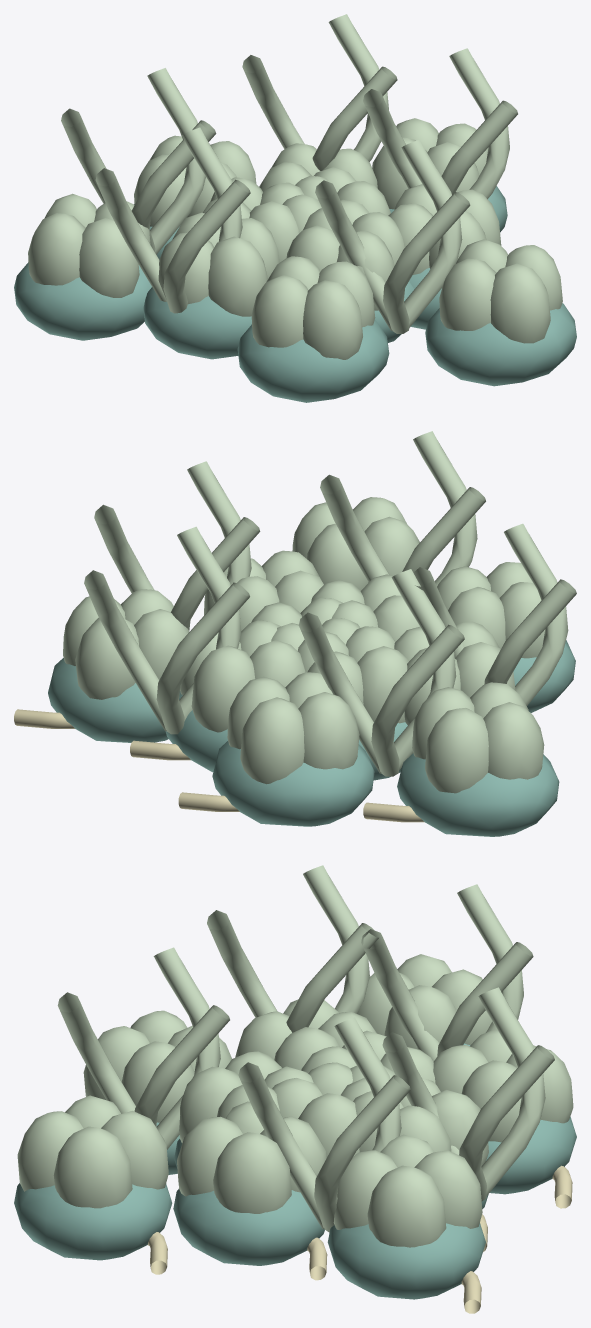
The model's file is bio_oxygen_reef_09_far.glb.
The picture shows the model from 3 angles, top to bottom: view 1: azimuth 30°, elevation 25°; view 2: azimuth 150°, elevation 25°; view 3: azimuth 270°, elevation 25°; orthographic projection. The views are drawn at different scales.
Parts seen in each view (by area): view 1: Lobed gas sac.040, Lobed gas sac.028, Spiral filament.006, Lobed gas sac.036, Spiral filament.012, Photosynthetic cushion.007, Photosynthetic cushion.010, Spiral filament.003, Lobed gas sac.016, Spiral filament, Spiral filament.009, Photosynthetic cushion.009 (+9 smaller); view 2: Lobed gas sac.036, Lobed gas sac.024, Spiral filament.009, Spiral filament.003, Photosynthetic cushion.006, Photosynthetic cushion.009, Lobed gas sac.032, Spiral filament.006, Spiral filament.012, Lobed gas sac.012, Spiral filament, Lobed gas sac.040 (+13 smaller); view 3: Lobed gas sac.040, Lobed gas sac.032, Lobed gas sac.020, Spiral filament.009, Spiral filament, Spiral filament.006, Spiral filament.012, Photosynthetic cushion.008, Photosynthetic cushion.010, Spiral filament.003, Photosynthetic cushion.005, Lobed gas sac.024 (+12 smaller).
Part boxes in pixels (x1,y1,x2,y2): Lobed gas sac.040: [439, 239, 562, 343]; Lobed gas sac.028: [251, 256, 375, 359]; Spiral filament.006: [315, 139, 470, 333]; Lobed gas sac.036: [28, 193, 150, 297]; Spiral filament.012: [95, 127, 250, 313]; Photosynthetic cushion.007: [237, 320, 389, 402]; Photosynthetic cushion.010: [425, 303, 576, 386]; Spiral filament.003: [61, 68, 216, 254]; Lobed gas sac.016: [158, 212, 279, 316]; Spiral filament: [363, 48, 517, 199]; Spiral filament.009: [242, 14, 397, 170]; Photosynthetic cushion.009: [14, 262, 151, 340]; Lobed gas sac.036: [412, 682, 544, 793]; Lobed gas sac.024: [227, 672, 359, 784]; Spiral filament.009: [84, 526, 249, 734]; Spiral filament.003: [298, 569, 464, 776]; Photosynthetic cushion.006: [212, 741, 374, 826]; Photosynthetic cushion.009: [397, 753, 559, 836]; Lobed gas sac.032: [63, 589, 189, 699]; Spiral filament.006: [320, 431, 485, 586]; Spiral filament.012: [413, 523, 576, 705]; Lobed gas sac.012: [180, 620, 305, 732]; Spiral filament: [94, 461, 260, 630]; Lobed gas sac.040: [292, 497, 419, 590]; Lobed gas sac.040: [17, 1095, 168, 1208]; Lobed gas sac.032: [333, 1134, 482, 1247]; Lobed gas sac.020: [177, 1101, 326, 1213]; Spiral filament.009: [382, 987, 554, 1201]; Spiral filament: [238, 1017, 410, 1232]; Spiral filament.006: [57, 947, 229, 1149]; Spiral filament.012: [207, 865, 378, 1032]; Photosynthetic cushion.008: [327, 1223, 485, 1299]; Photosynthetic cushion.010: [14, 1183, 172, 1260]; Spiral filament.003: [361, 884, 533, 1061]; Photosynthetic cushion.005: [173, 1189, 324, 1265]; Lobed gas sac.024: [433, 1029, 573, 1142].
Bounding box in the file's own units: 1.85 × 0.7508 × 1.71.
